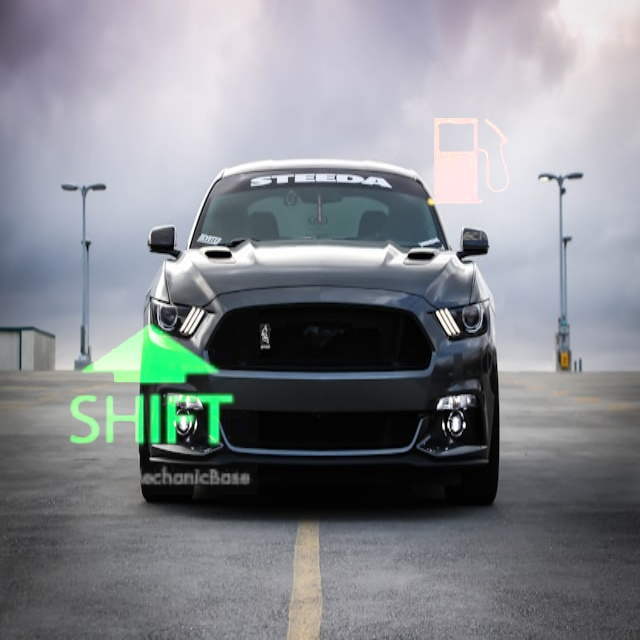symbol: (42, 279, 258, 495), (383, 76, 556, 249)
